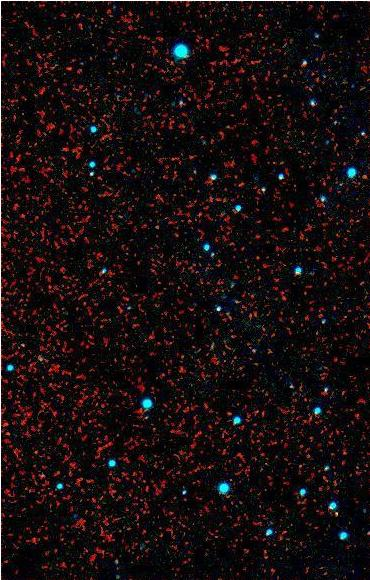star: (320, 495, 350, 525)
